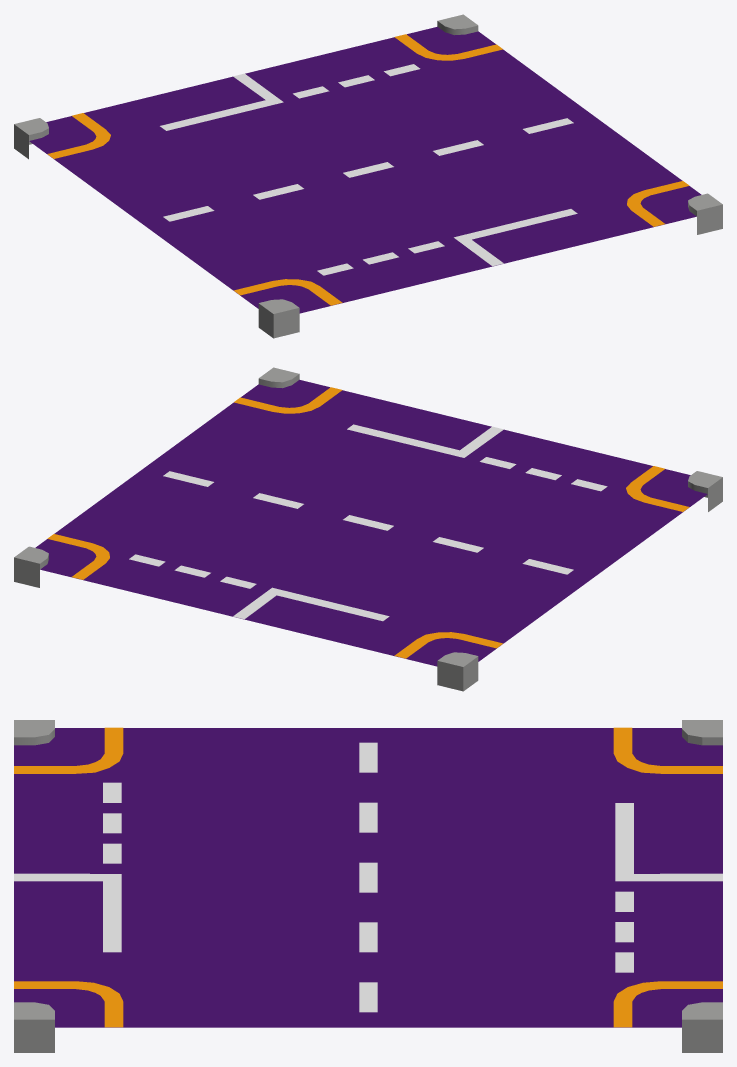
The model's file is Road_C_7.fbx.
3 views of the same model, one above another, from view 1: azimuth 30°, elevation 25°; view 2: azimuth 150°, elevation 25°; view 3: azimuth 270°, elevation 25° (orthographic). The views are drawn at different scales.
Parts seen in each view (by area): view 1: Road_C_7; view 2: Road_C_7; view 3: Road_C_7.
Boxes of the visible parts, x1=… form: Road_C_7: x1=14, y1=14, x2=722, y2=338; Road_C_7: x1=14, y1=367, x2=722, y2=691; Road_C_7: x1=14, y1=720, x2=722, y2=1052.
Bounding box in the file's own units: 800 × 41.48 × 800.
